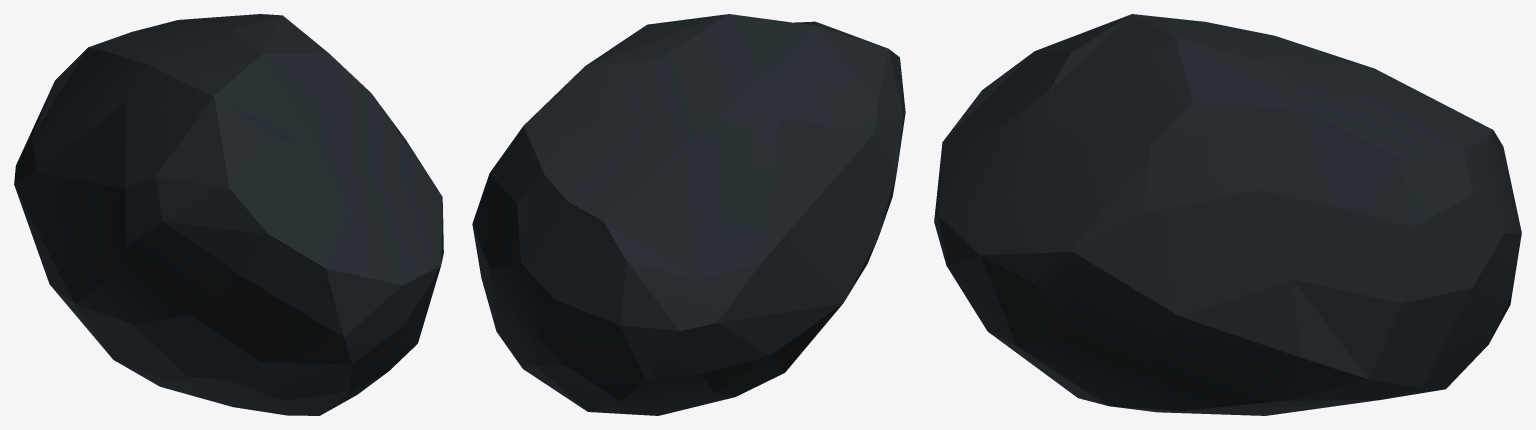
The model's file is Asteroid_s_07.FBX.
The picture shows the model from 3 angles, left to right: view 1: azimuth 30°, elevation 25°; view 2: azimuth 150°, elevation 25°; view 3: azimuth 270°, elevation 25°; orthographic projection. The views are drawn at different scales.
Visible parts, largest first — view 1: Asteroid_s_07; view 2: Asteroid_s_07; view 3: Asteroid_s_07.
Part boxes in pixels (left/top/right/bottom): Asteroid_s_07: left=14, top=14, right=443, bottom=415; Asteroid_s_07: left=472, top=14, right=905, bottom=415; Asteroid_s_07: left=934, top=14, right=1521, bottom=415.
Bounding box in the file's own units: 167 × 167 × 246.
